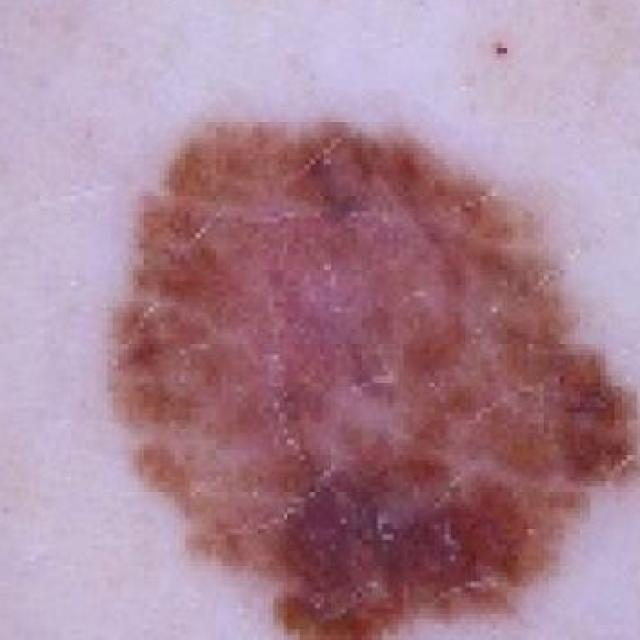MEL: (51, 22, 640, 640)
